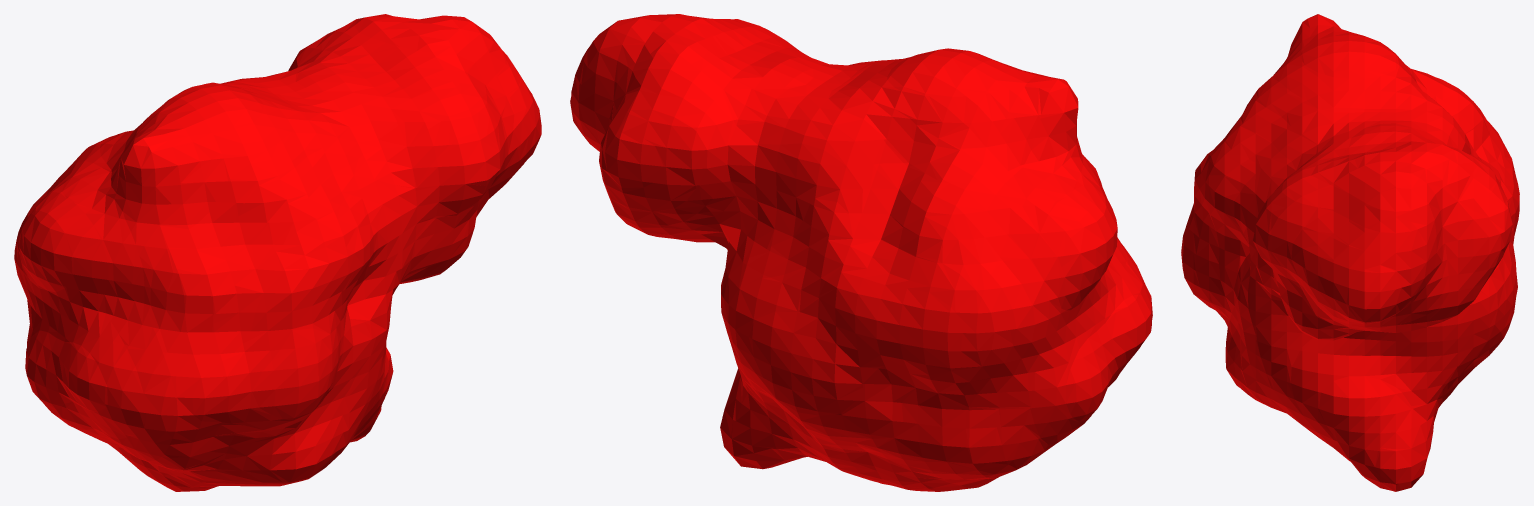
The model's file is rlmF_coarse.dae.
3 views of the same model, side by side, from view 1: azimuth 30°, elevation 25°; view 2: azimuth 150°, elevation 25°; view 3: azimuth 270°, elevation 25° (orthographic). The views are drawn at different scales.
Visible parts, largest first — view 1: rlmF; view 2: rlmF; view 3: rlmF.
Boxes of the visible parts, x1,y1,x2,y2 form: rlmF: [14, 14, 541, 491]; rlmF: [570, 14, 1152, 491]; rlmF: [1181, 14, 1519, 491].
Size of the model in its own units: 64.4 by 49.42 by 40.34.
